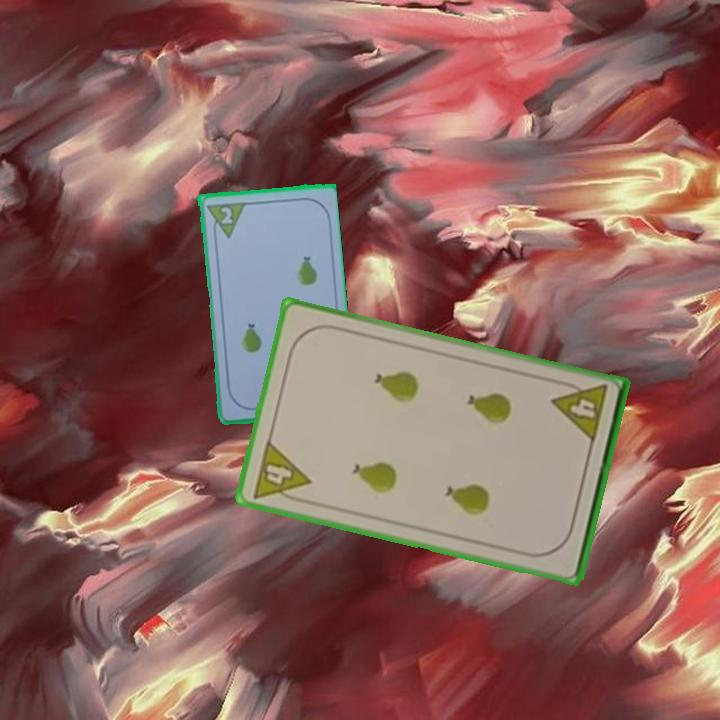2p: (217, 203, 235, 226)
4p: (249, 436, 313, 507), (548, 377, 611, 446)
